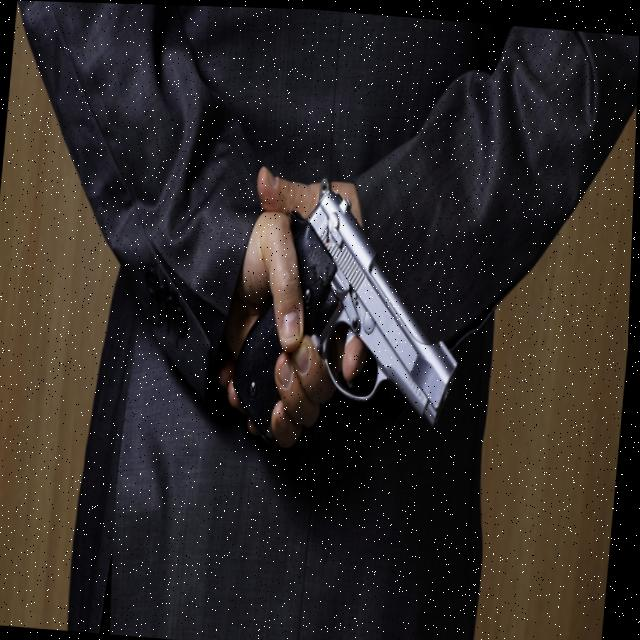pistol: (274, 178, 477, 432)
